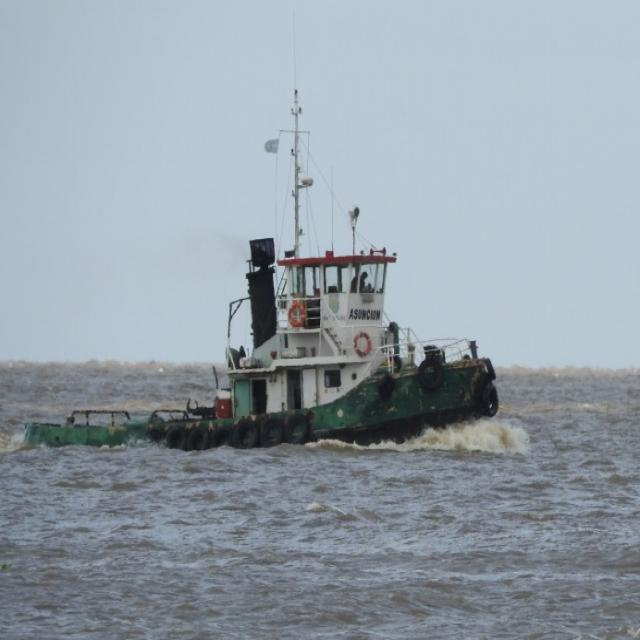tugboat: (16, 233, 506, 466)
